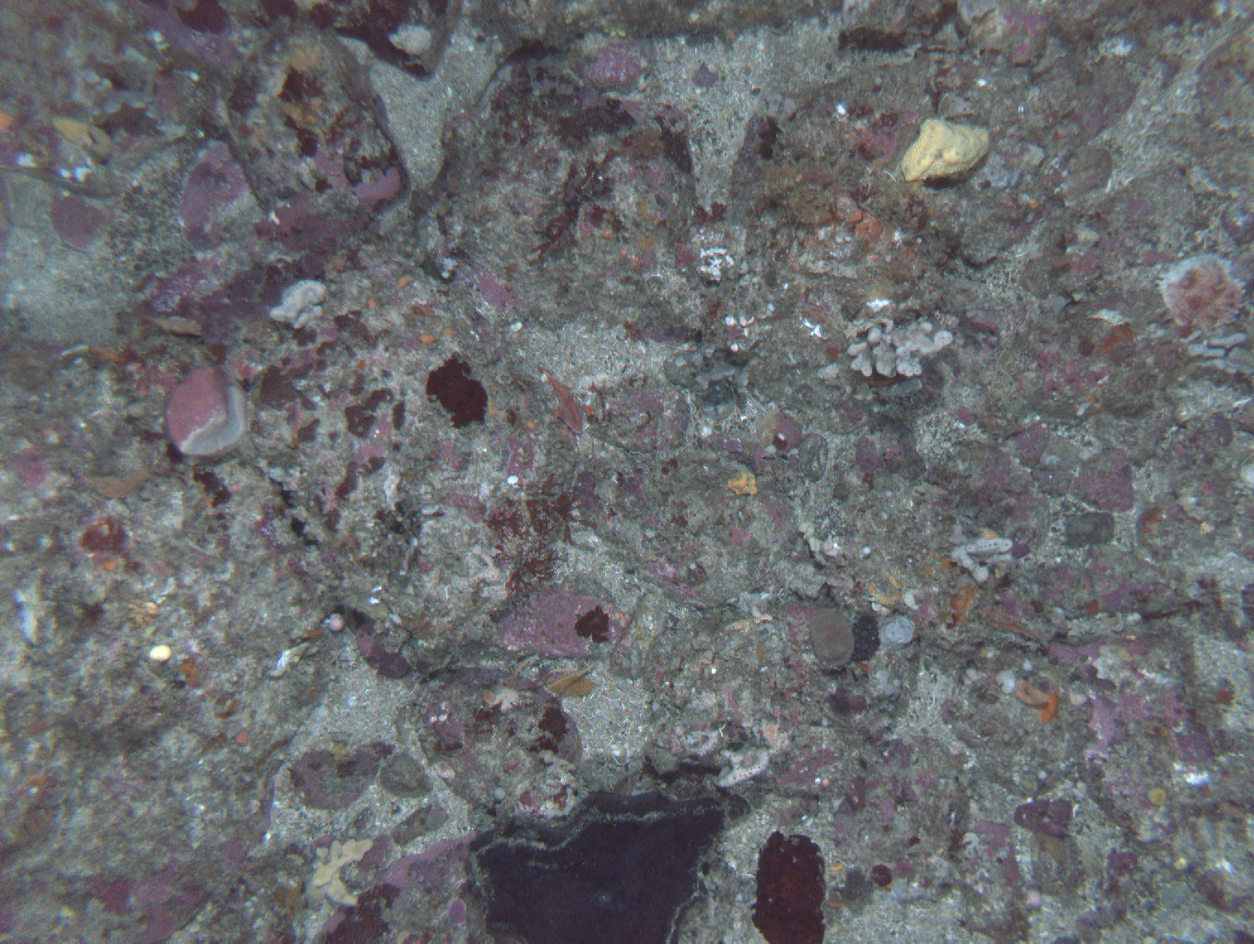Brachionichthyidae: (533, 365, 598, 435)
